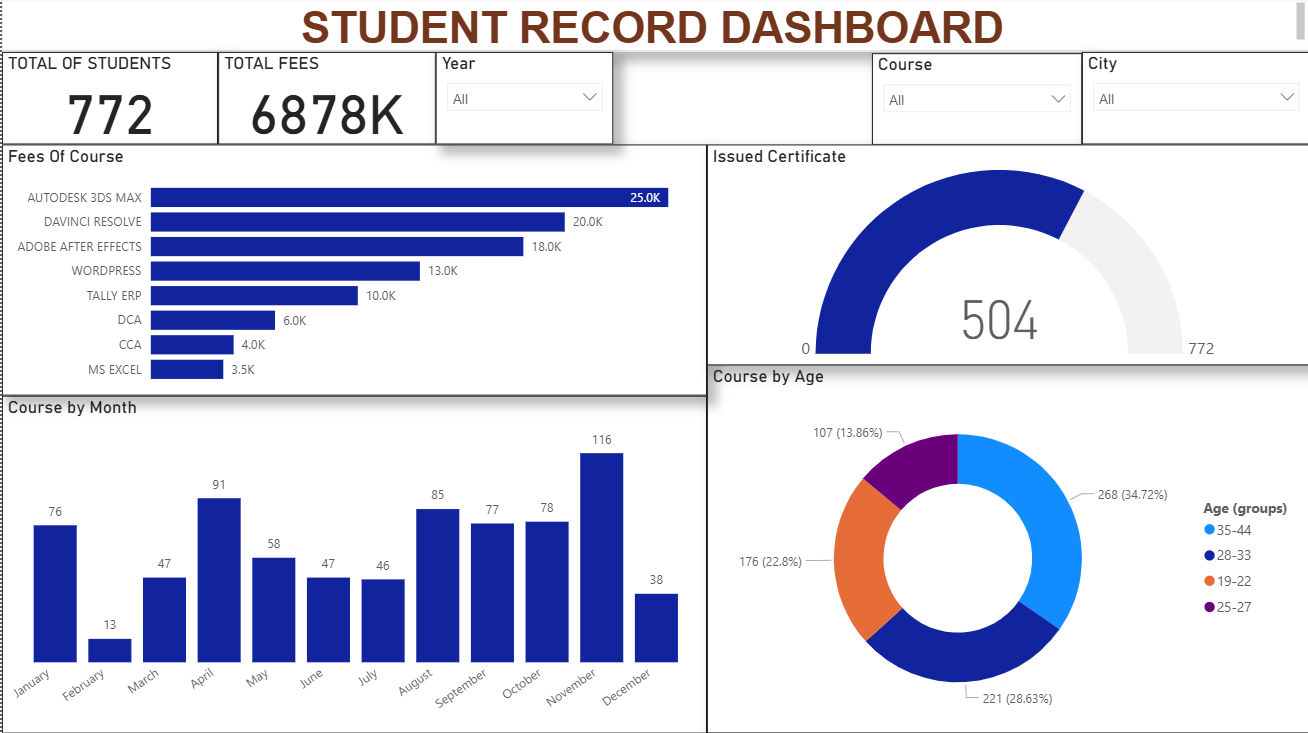

The dashboard page shown, as its layout file describes it:
{"tool":"powerbi","page":{"name":"Page 1","canvas":[1280,720],"ordinal":0},"visuals":[{"type":"textbox","box":[0,0,1280.3,53.8],"z":0},{"type":"clusteredColumnChart","title":" Course by Month","fields":{"Category":["STUDENT COURSE DETAILS.DATE OF JOIN.Variation.Date Hierarchy.Year","STUDENT COURSE DETAILS.DATE OF JOIN.Variation.Date Hierarchy.Quarter","STUDENT COURSE DETAILS.DATE OF JOIN.Variation.Date Hierarchy.Month","STUDENT COURSE DETAILS.DATE OF JOIN.Variation.Date Hierarchy.Day"],"Y":["STUDENT COURSE DETAILS.COURSE"]},"box":[0,390.1,689.7,330.2],"z":1000},{"type":"donutChart","title":"Course by Age ","fields":{"Y":["STUDENT COURSE DETAILS.COURSE"],"Category":["PERSONAL DETAILS.Age (groups)"]},"box":[689.7,359.5,590.6,360.7],"z":2000},{"type":"slicer","title":"Course","fields":{"Values":["STUDENT COURSE DETAILS.COURSE"]},"box":[851.1,55,205.4,89.3],"z":3000},{"type":"slicer","title":"City","fields":{"Values":["PERSONAL DETAILS.City"]},"box":[1056.5,53.8,223.8,90.5],"z":4000},{"type":"card","title":"TOTAL OF STUDENTS","fields":{"Values":["STUDENT COURSE DETAILS.STUDENT NAME"]},"box":[0,53.8,211.6,90.5],"z":5000},{"type":"card","title":"TOTAL FEES","fields":{"Values":["STUDENT COURSE DETAILS.FEES"]},"box":[211.6,53.8,212.8,90.5],"z":6000},{"type":"clusteredBarChart","title":"Fees Of Course","fields":{"Category":["STUDENT COURSE DETAILS.COURSE"],"Y":["STUDENT COURSE DETAILS.FEES"]},"box":[0,144.3,689.7,245.8],"z":7000},{"type":"slicer","title":"Year","fields":{"Values":["STUDENT COURSE DETAILS.DATE OF JOIN.Variation.Date Hierarchy.Year"]},"box":[424.3,53.8,173.6,90.5],"z":8000},{"type":"gauge","title":"Issued Certificate","fields":{"Y":["PERSONAL DETAILS.CountYes"]},"box":[690,144,590,216],"z":8001}]}

Visuals, with their boxes in screenshot pixels (x1, y1, x2, y2), scaled from the page's 1280x720 canvas onto the 1308x733 screenshot:
textbox: 0:0:1307:55
" Course by Month" clusteredColumnChart: 0:397:705:732
"Course by Age " donutChart: 705:366:1307:732
"Course" slicer: 870:56:1080:147
"City" slicer: 1080:55:1307:147
"TOTAL OF STUDENTS" card: 0:55:216:147
"TOTAL FEES" card: 216:55:434:147
"Fees Of Course" clusteredBarChart: 0:147:705:397
"Year" slicer: 434:55:611:147
"Issued Certificate" gauge: 705:147:1307:366
